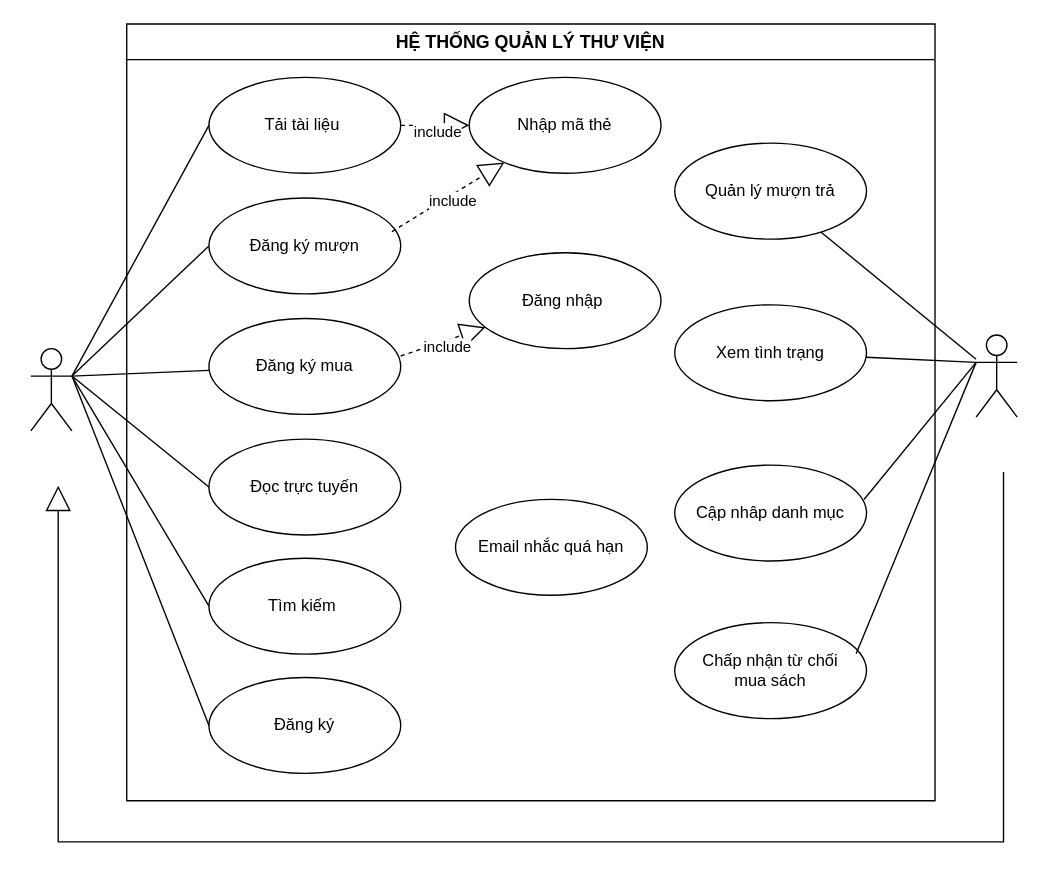
The diagram is 1052 pixels wide and 891 high, and some of its shapes have lost their labels. Each missing label, with the box of its shape:
Thủ thư: (975, 334, 1017, 417)
Độc giả: (29, 347, 72, 431)
